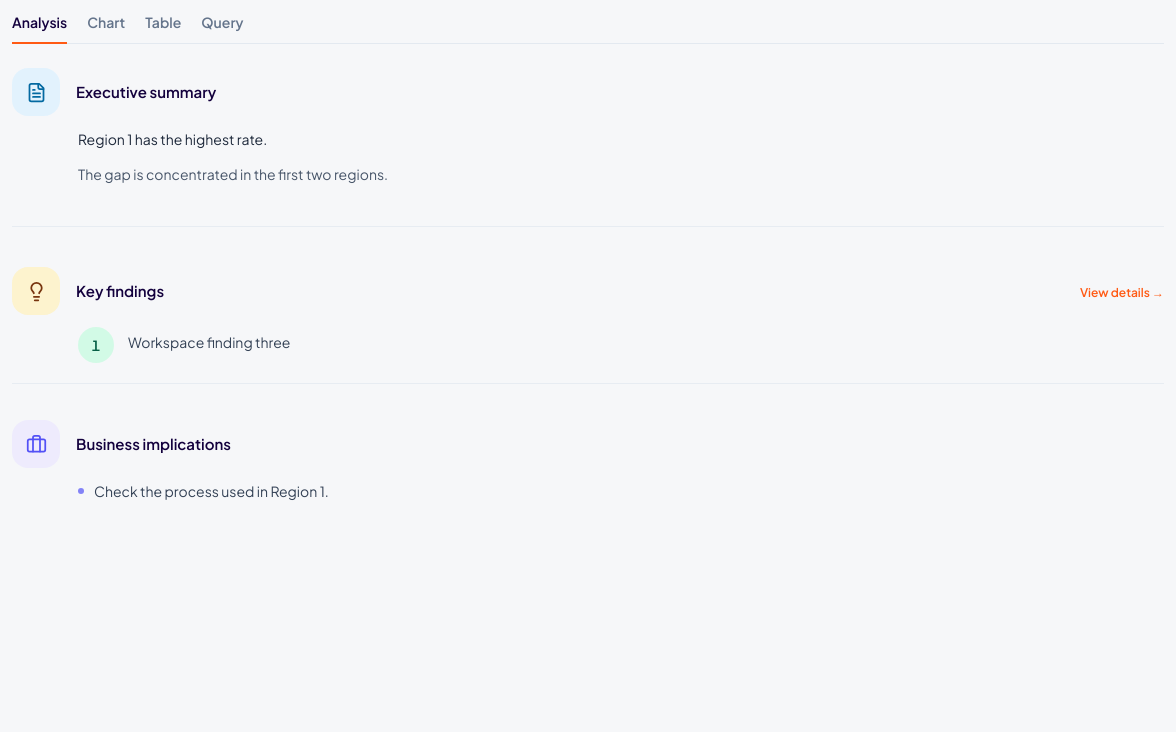
Analysis workspace summary › keeps the chart in its own tab of the workspace, larger than in the chat
What coordinates should you click on to do the following:
click the tab "Chart"
I would click on:
 (106, 28)
Its box is [87,12,125,44].
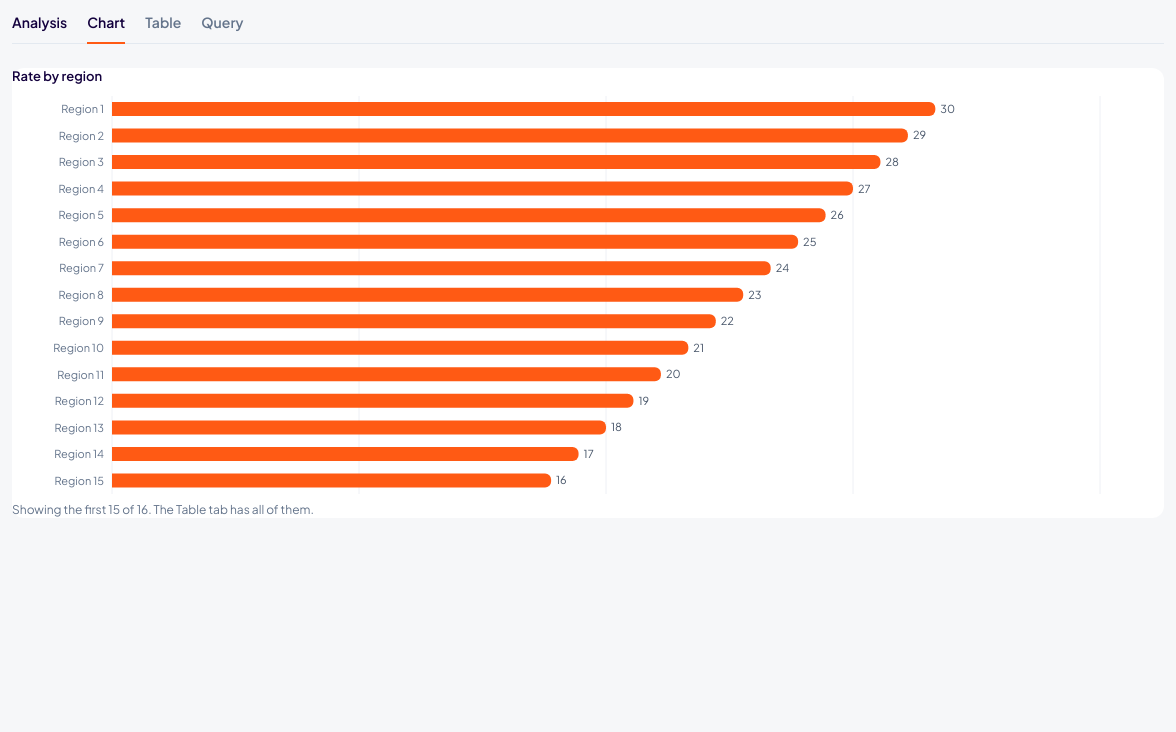
Check: the panel with test id "workspace-chart" shows "Rate by region", box [12,68,102,84]
